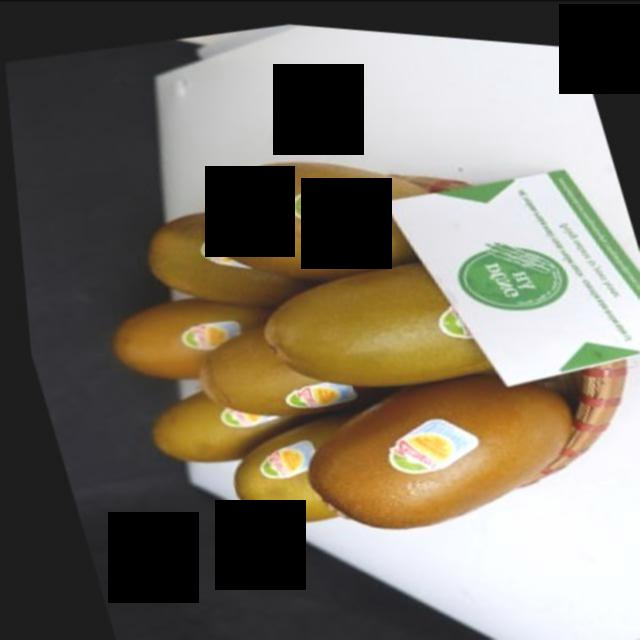kiwi: (276, 336, 609, 554), (236, 215, 575, 420), (179, 109, 486, 312), (174, 285, 420, 440), (119, 171, 349, 332), (206, 390, 408, 543), (124, 355, 342, 490), (87, 269, 290, 404)
